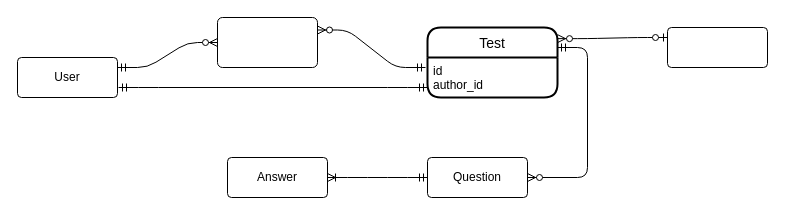
The diagram is 785 pixels wide and 215 high, and some of its shapes have lost their labels. The centre of each missing label's shape, as x and y in pixels:
"Category" goes at point (717, 47).
"User_Test" goes at point (267, 42).
